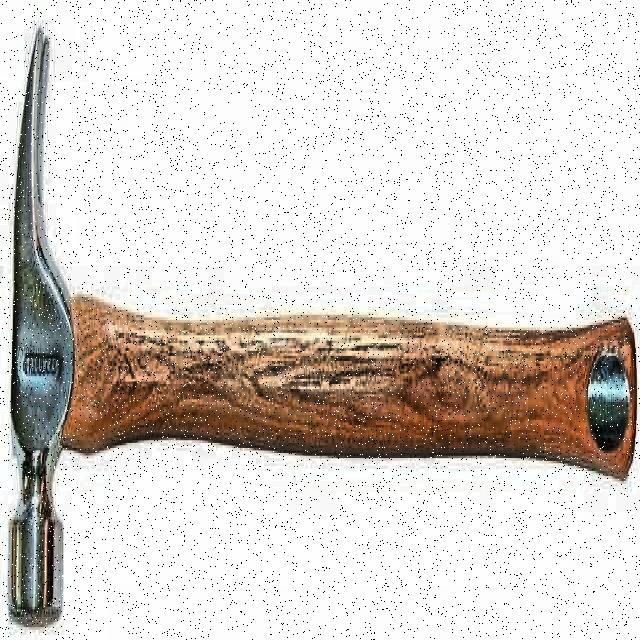hammer: (6, 23, 638, 633)
